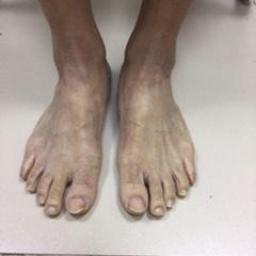Dorsal View -Both Feet-: (11, 15, 212, 223)
